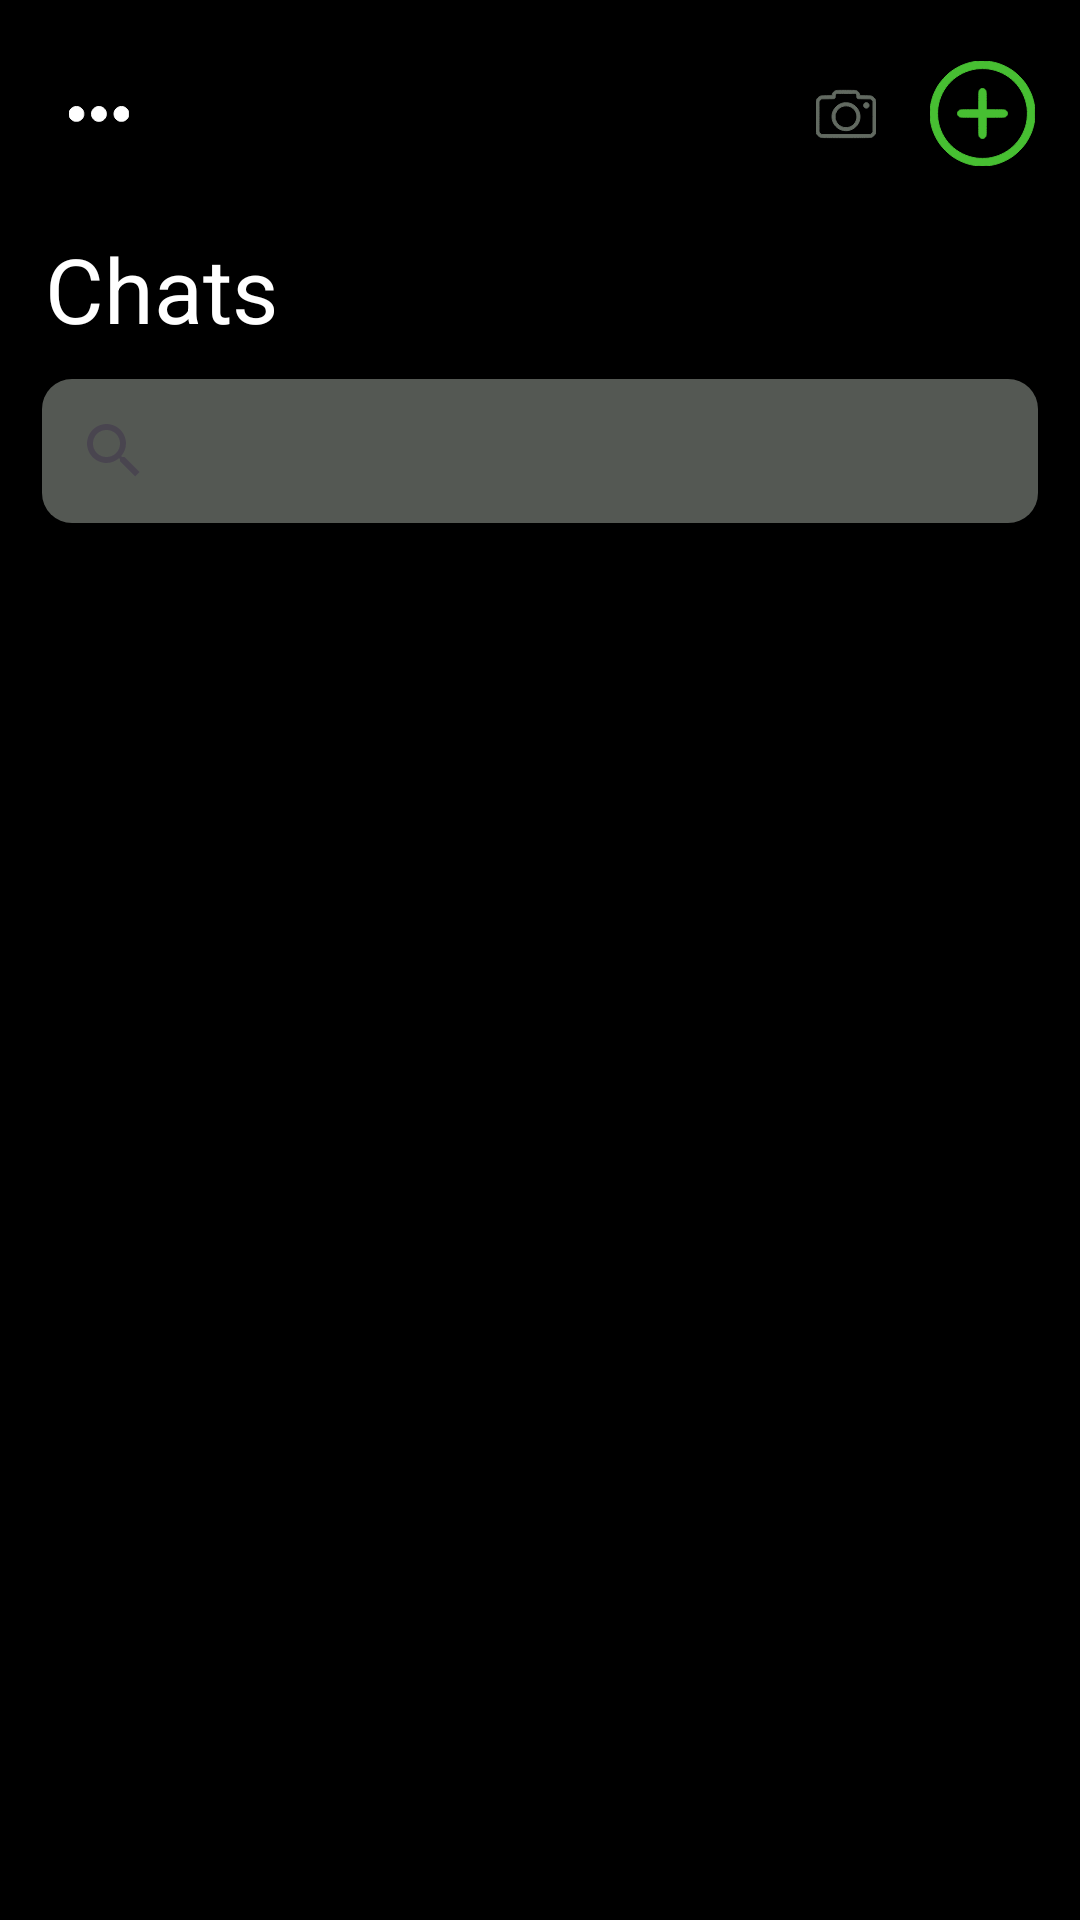

Named icons in this screenshot (1080px×1920px) and their bounding boxes, (x1, y1, x2, y2):
anadir: (930, 61, 1035, 166)
camara: (816, 90, 876, 138)
